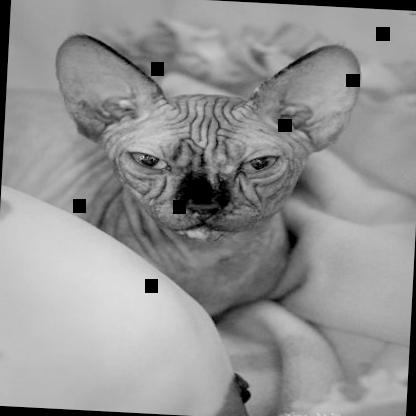cat: (0, 26, 364, 320)
